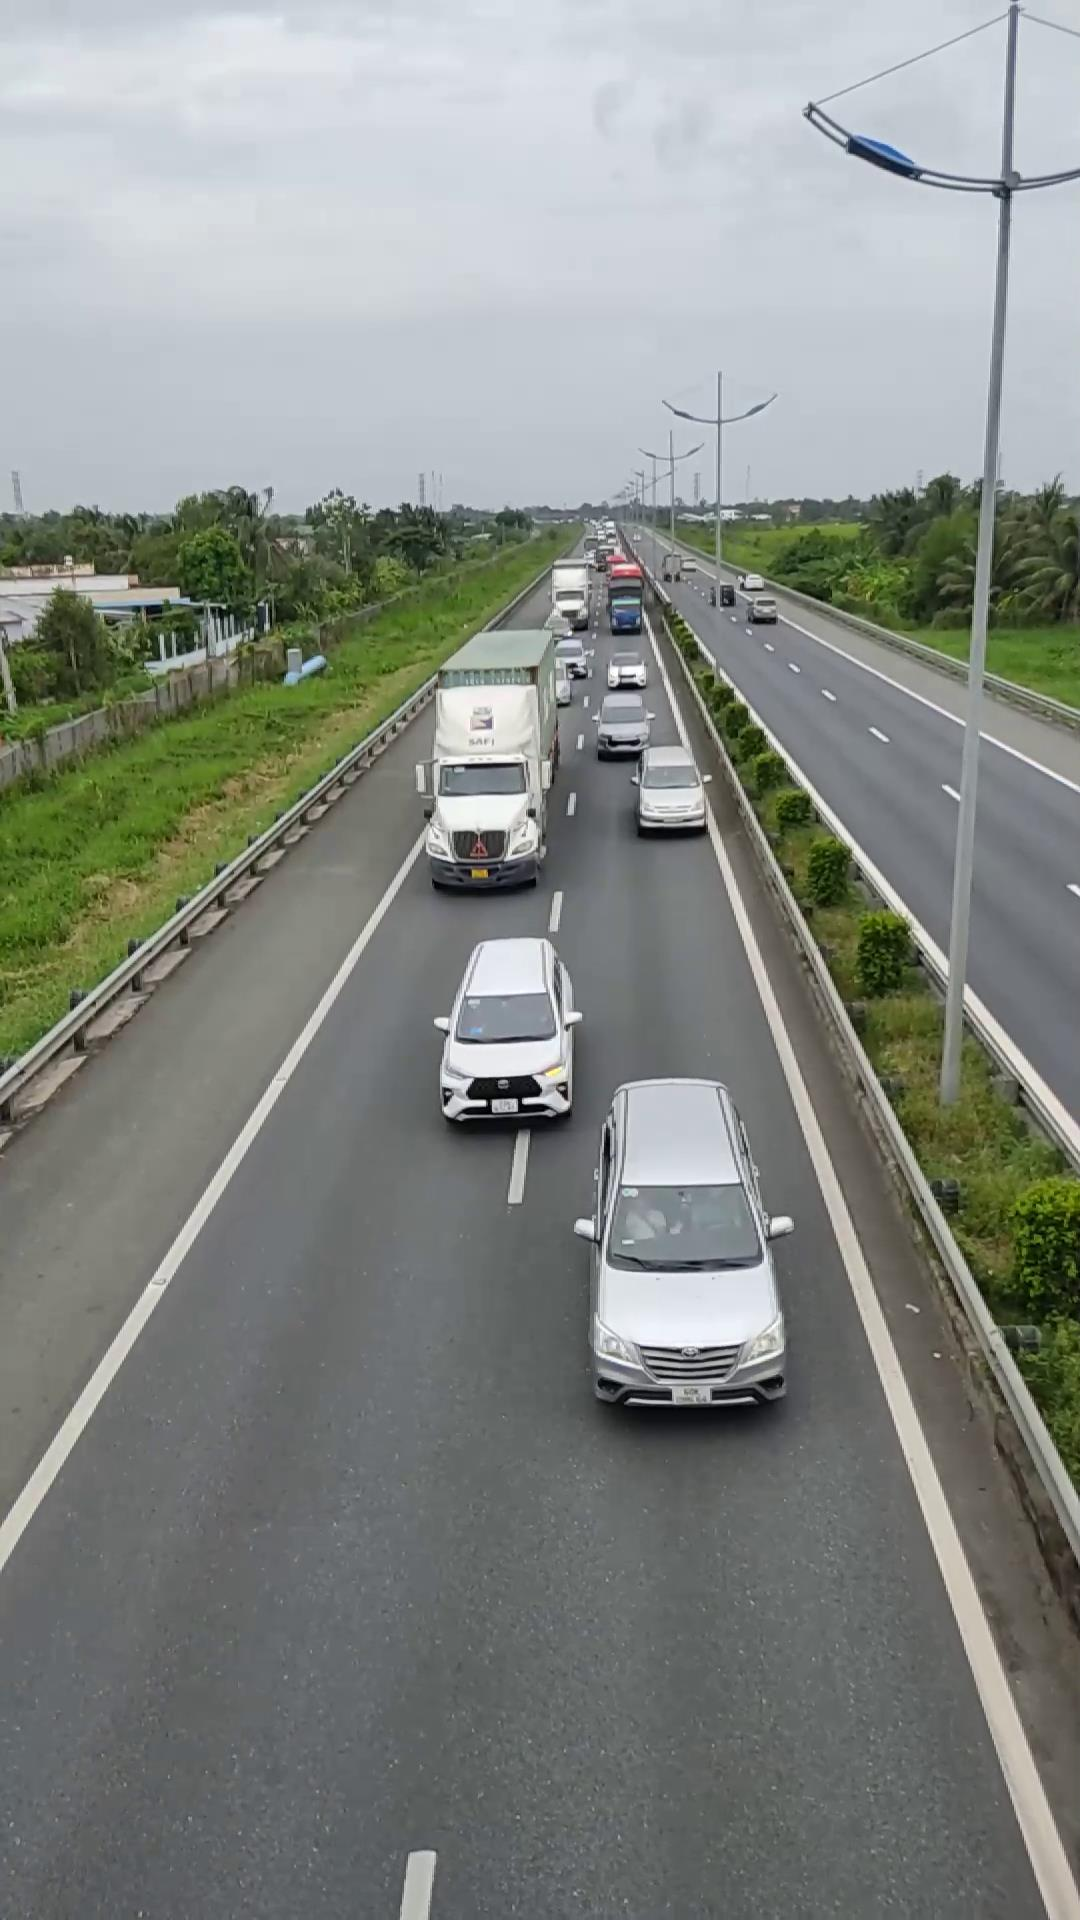car: (576, 1075, 792, 1411), (433, 936, 582, 1128), (632, 744, 709, 834)
container: (420, 626, 559, 891)
